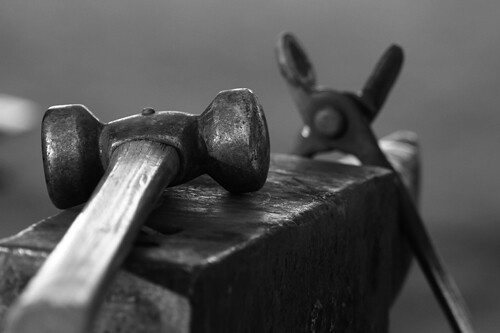hammer: (34, 87, 272, 333)
